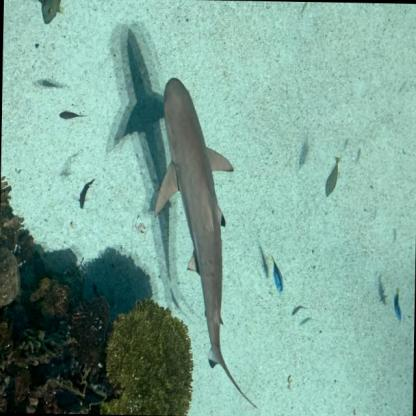fish: (320, 151, 348, 204), (268, 251, 287, 303), (72, 177, 98, 214), (32, 0, 66, 26), (388, 286, 408, 326), (57, 108, 92, 126), (36, 76, 68, 94), (291, 304, 310, 317)
shark: (151, 76, 235, 369)
